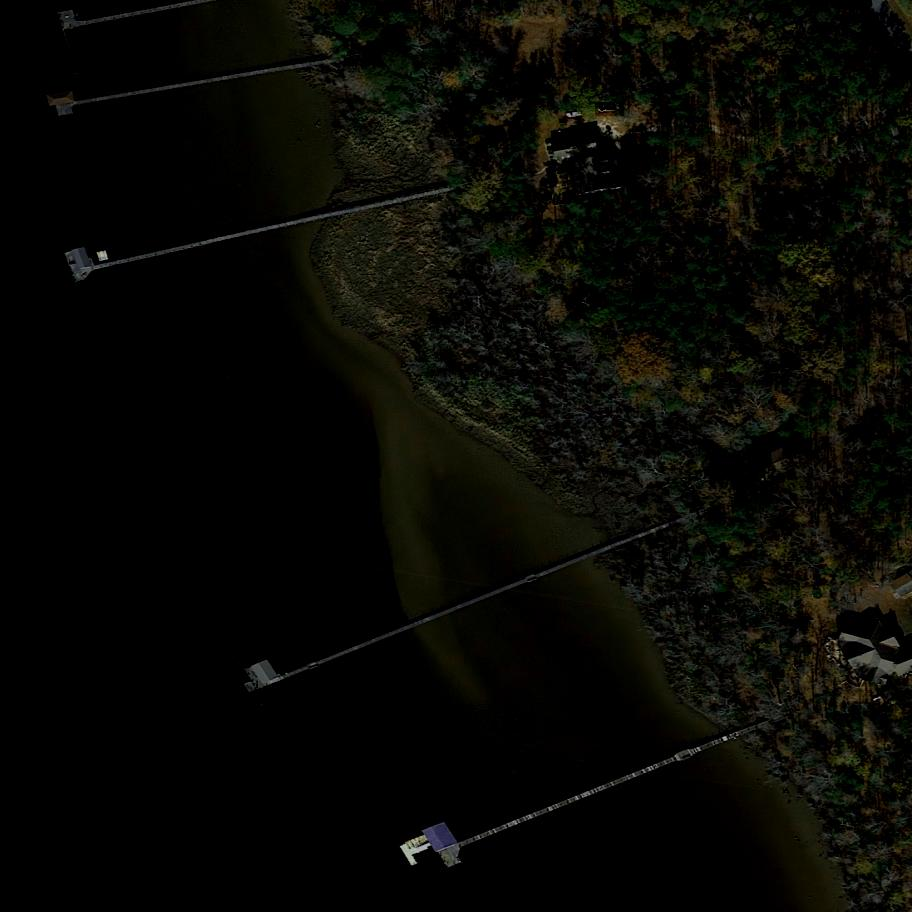ship: (596, 102, 625, 118)
small-vehicle: (565, 111, 587, 122)
